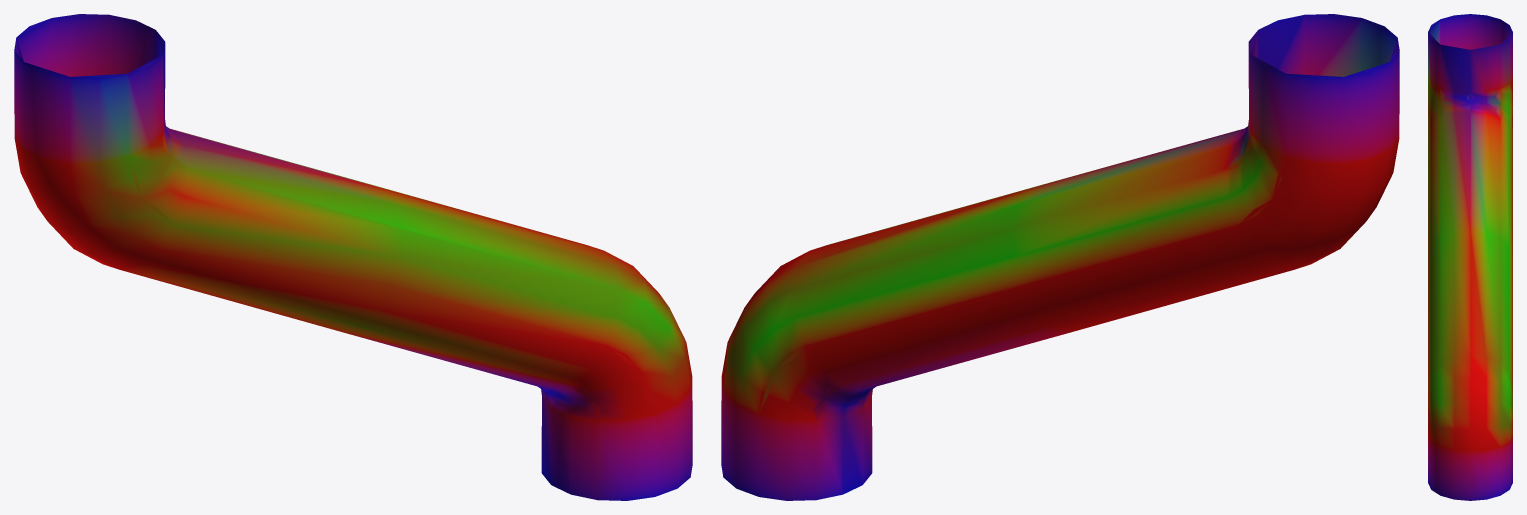
Rendered from PipeA_A_4.fbx.
3 renders of one model, left to right at view 1: azimuth 30°, elevation 25°; view 2: azimuth 150°, elevation 25°; view 3: azimuth 270°, elevation 25°, orthographic. The views are drawn at different scales.
Parts seen in each view (by area): view 1: Plane.001, Plane.000; view 2: Plane.001, Plane.000; view 3: Plane.001, Plane.000.
Boxes of the visible parts, <box> form: Plane.001: <box>14,14,692,500</box>; Plane.000: <box>16,15,654,420</box>; Plane.001: <box>721,14,1399,500</box>; Plane.000: <box>759,15,1397,420</box>; Plane.001: <box>1428,14,1512,500</box>; Plane.000: <box>1428,14,1512,500</box>.
Bounding box in the file's own units: 500 × 400 × 100.
